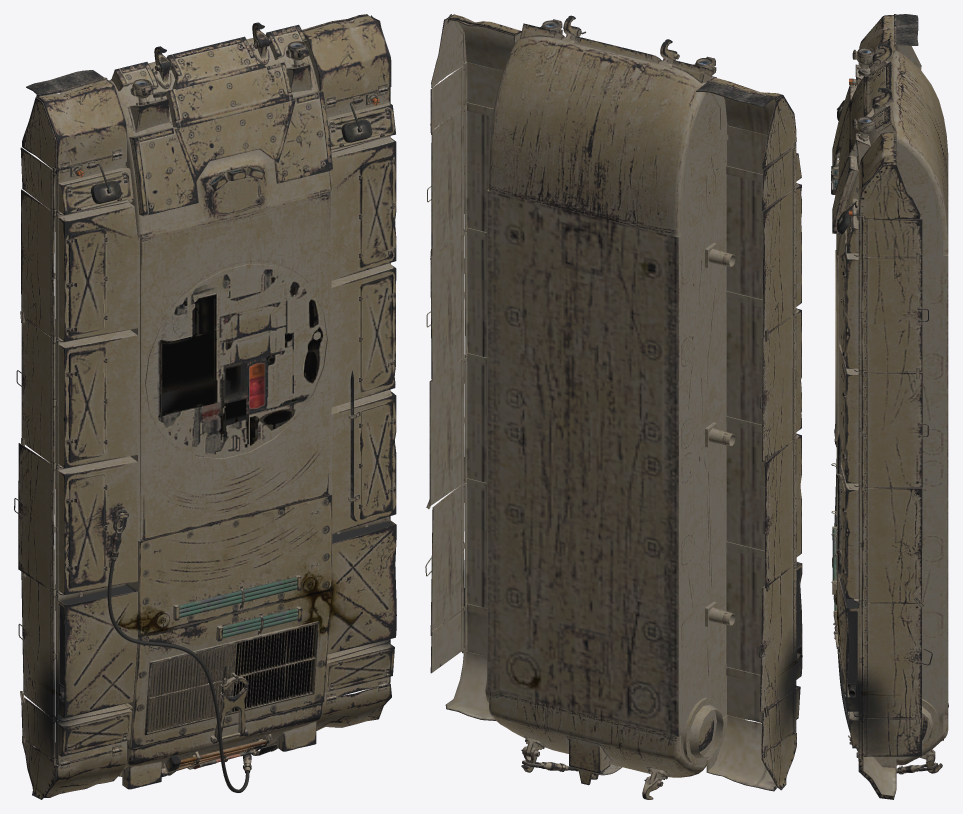
The model's file is Hull.glb.
The picture shows the model from 3 angles, left to right: view 1: azimuth 30°, elevation 25°; view 2: azimuth 150°, elevation 25°; view 3: azimuth 270°, elevation 25°; orthographic projection. The views are drawn at different scales.
Visible parts, largest first — view 1: set_0_group_0; view 2: set_0_group_0; view 3: set_0_group_0.
Boxes of the visible parts, left/top/right/bottom form: set_0_group_0: left=14, top=14, right=396, bottom=799; set_0_group_0: left=425, top=14, right=802, bottom=799; set_0_group_0: left=831, top=14, right=948, bottom=799.
Bounding box in the file's own units: 3.55 × 7.48 × 1.16.
Materials: 1 (1 with a texture image).
